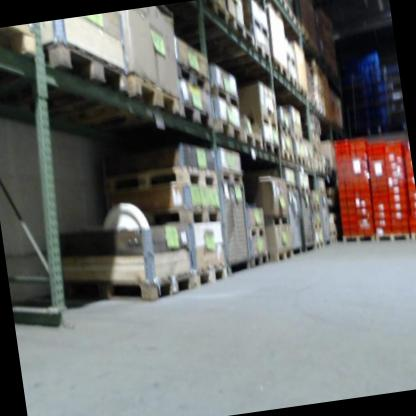pallet: (60, 259, 195, 313), (40, 31, 130, 104), (103, 160, 222, 204), (139, 196, 224, 234), (124, 66, 179, 121), (174, 56, 212, 99), (0, 23, 38, 63), (177, 96, 215, 133), (212, 112, 245, 146), (211, 81, 242, 113), (191, 262, 229, 288), (230, 13, 255, 48), (202, 0, 231, 29), (247, 109, 279, 133), (374, 229, 412, 245), (340, 229, 376, 245), (242, 128, 265, 153), (219, 164, 244, 187), (251, 37, 271, 64), (251, 13, 270, 41), (263, 212, 291, 229), (270, 56, 289, 81), (271, 245, 294, 264), (245, 221, 267, 239), (249, 251, 270, 269), (283, 0, 296, 25), (263, 137, 280, 156), (280, 146, 295, 166), (286, 71, 299, 90), (284, 50, 297, 69), (277, 120, 292, 136), (300, 25, 311, 43), (295, 153, 308, 168), (312, 238, 325, 250), (292, 131, 304, 144), (307, 95, 318, 109), (298, 84, 308, 99), (299, 184, 311, 195), (311, 219, 323, 230), (315, 163, 325, 174), (286, 181, 295, 192), (311, 202, 320, 212), (271, 0, 284, 5), (409, 232, 416, 241)
stillage: (213, 180, 261, 276), (293, 191, 317, 252), (317, 197, 333, 250)
